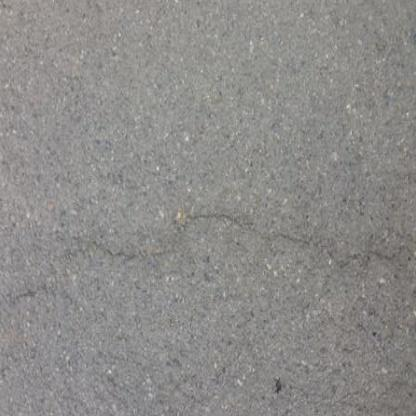Cracks: (87, 210, 412, 274), (0, 281, 52, 306)
